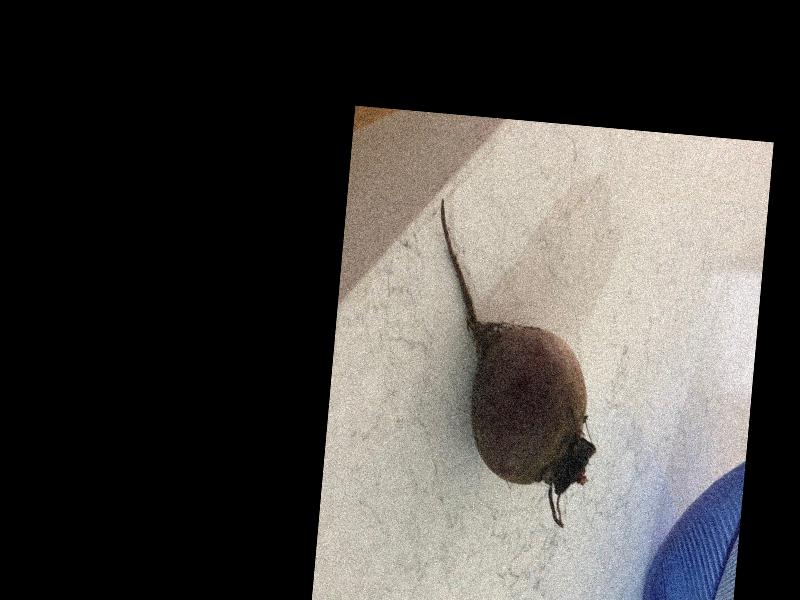Beet: (412, 200, 615, 528)
